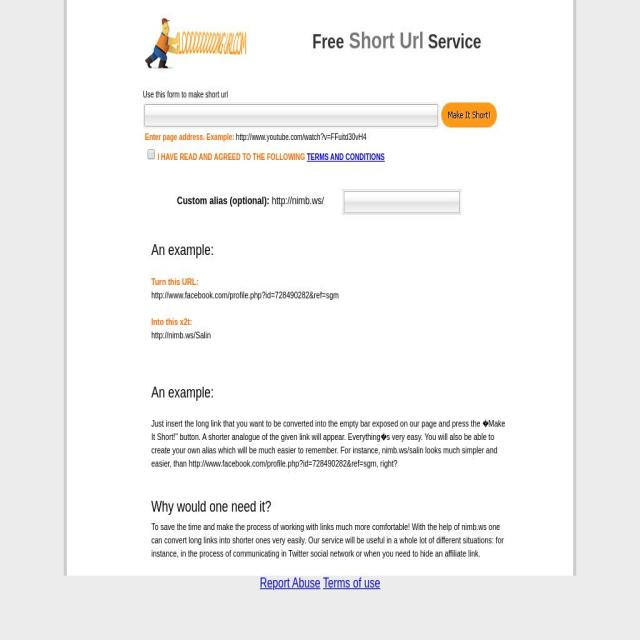field: (142, 102, 428, 121), (342, 190, 452, 208), (438, 102, 498, 128), (148, 149, 156, 160)
image: (142, 15, 251, 73)
link: (260, 576, 320, 590), (322, 576, 380, 590), (306, 152, 385, 162)
text: (151, 404, 573, 483), (151, 518, 573, 562), (151, 496, 573, 518), (141, 88, 499, 101), (344, 28, 424, 54), (151, 290, 339, 300), (157, 152, 307, 162), (234, 132, 366, 142), (424, 30, 482, 52), (177, 194, 269, 207), (151, 384, 214, 401), (151, 242, 214, 258), (145, 132, 234, 142), (312, 30, 344, 52), (270, 194, 324, 207), (151, 330, 211, 340), (151, 276, 199, 286), (151, 316, 192, 326)
